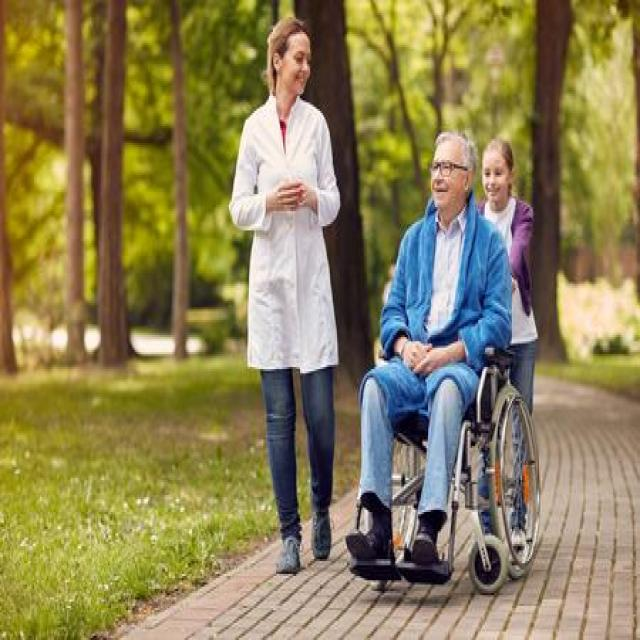wheelchairs: (323, 325, 548, 602)
